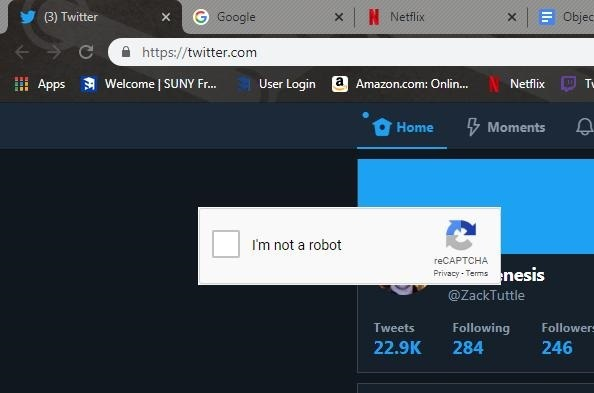captcha: (212, 228, 345, 258)
